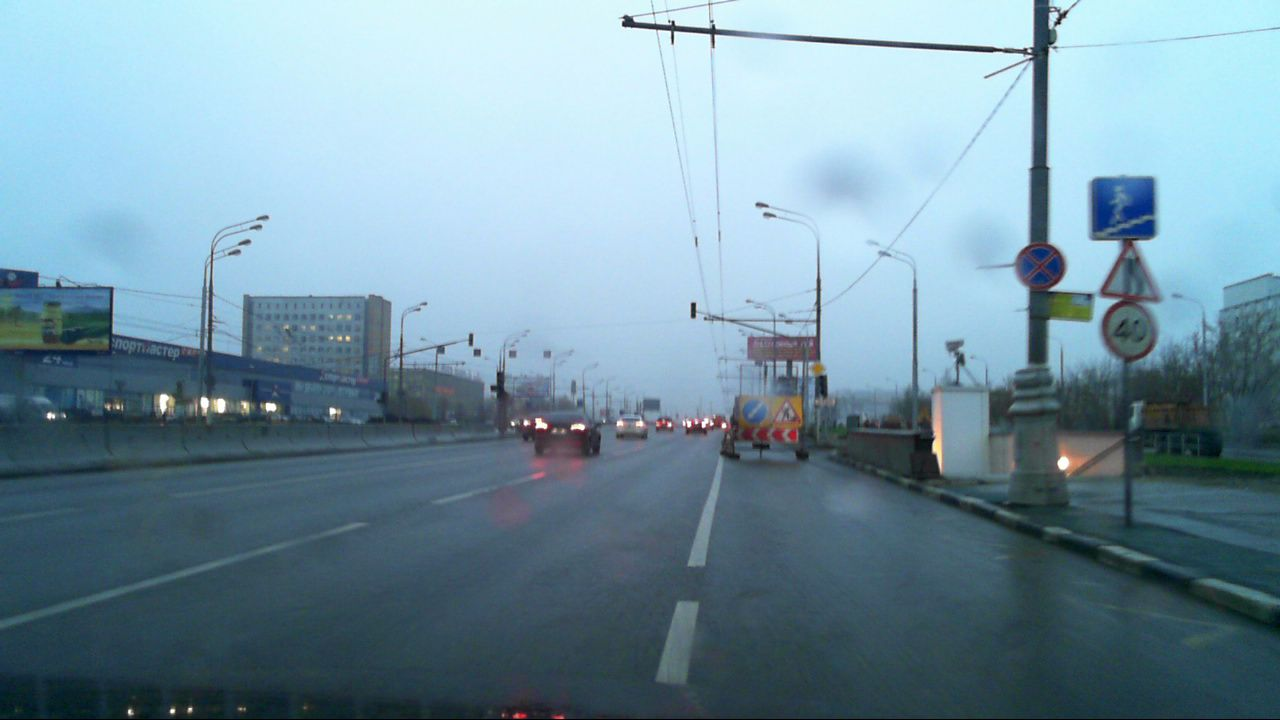No Parking: (1015, 243, 1064, 291)
speed_warning_40: (1101, 301, 1156, 362)
